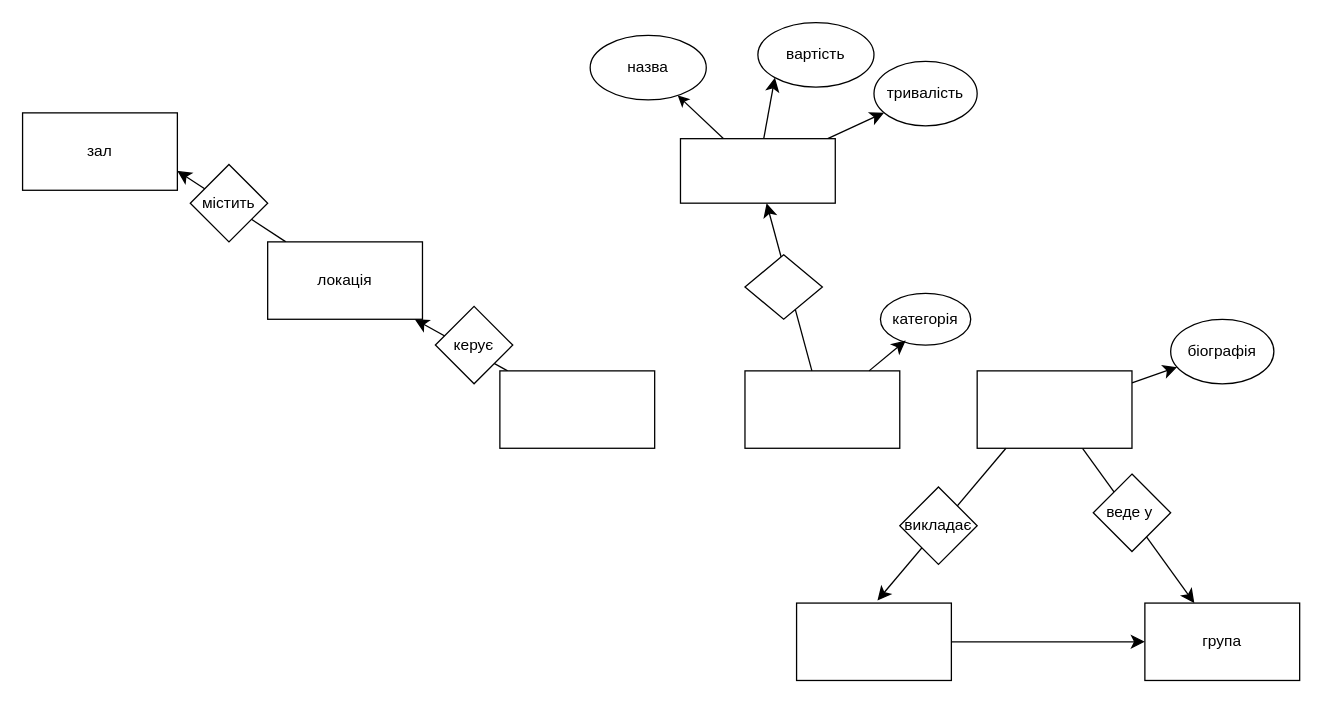
The diagram is 1322 pixels wide and 703 high, and some of its shapes have lost their labels. Each missing label, with the box of its shape:
абонемент: (679, 137, 835, 203)
клієнт: (744, 370, 900, 448)
купляє: (744, 253, 822, 319)
працівник: (499, 370, 655, 448)
стиль: (795, 602, 951, 680)
тренер: (976, 370, 1132, 448)
